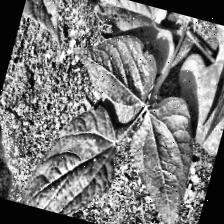ALS: (56, 29, 162, 131), (85, 0, 177, 37)
